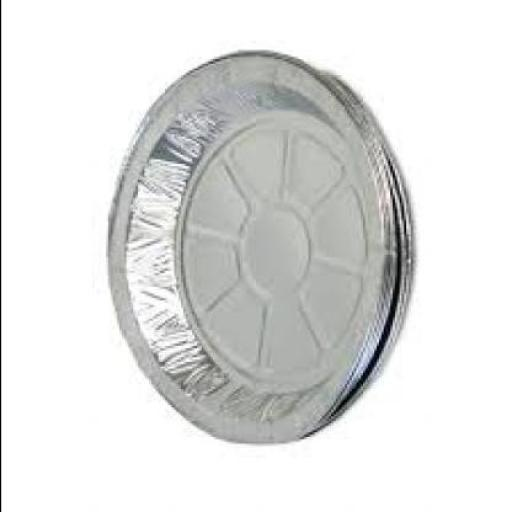metal: (105, 52, 405, 449)
